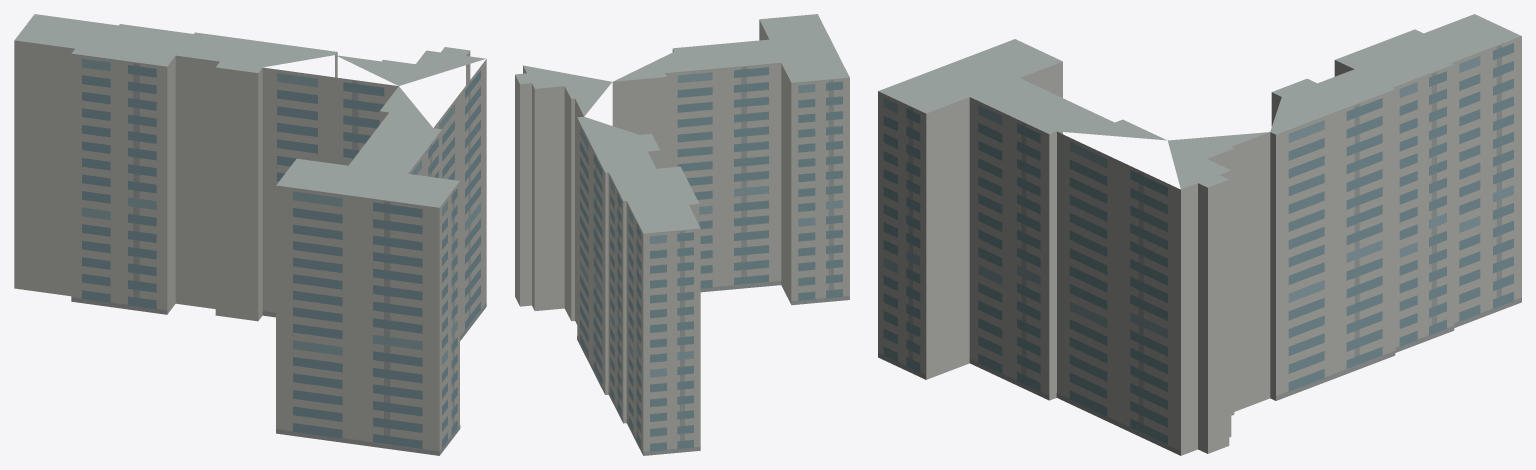
File: residential-dd8610f5-614f-43b1-9918-9ff2622d50e1.glb
The picture shows the model from 3 angles, left to right: view 1: azimuth 30°, elevation 25°; view 2: azimuth 150°, elevation 25°; view 3: azimuth 270°, elevation 25°; orthographic projection. The views are drawn at different scales.
Visible parts, largest first — view 1: residential-dd8610f5-614f-43b1-9918-9ff2622d50e1.tmp; view 2: residential-dd8610f5-614f-43b1-9918-9ff2622d50e1.tmp; view 3: residential-dd8610f5-614f-43b1-9918-9ff2622d50e1.tmp.
Part boxes in pixels (left/top/right/bottom): residential-dd8610f5-614f-43b1-9918-9ff2622d50e1.tmp: left=14, top=14, right=486, bottom=455; residential-dd8610f5-614f-43b1-9918-9ff2622d50e1.tmp: left=515, top=14, right=849, bottom=455; residential-dd8610f5-614f-43b1-9918-9ff2622d50e1.tmp: left=878, top=14, right=1521, bottom=455.
Size of the model in its own units: 70.72 by 50 by 110.
